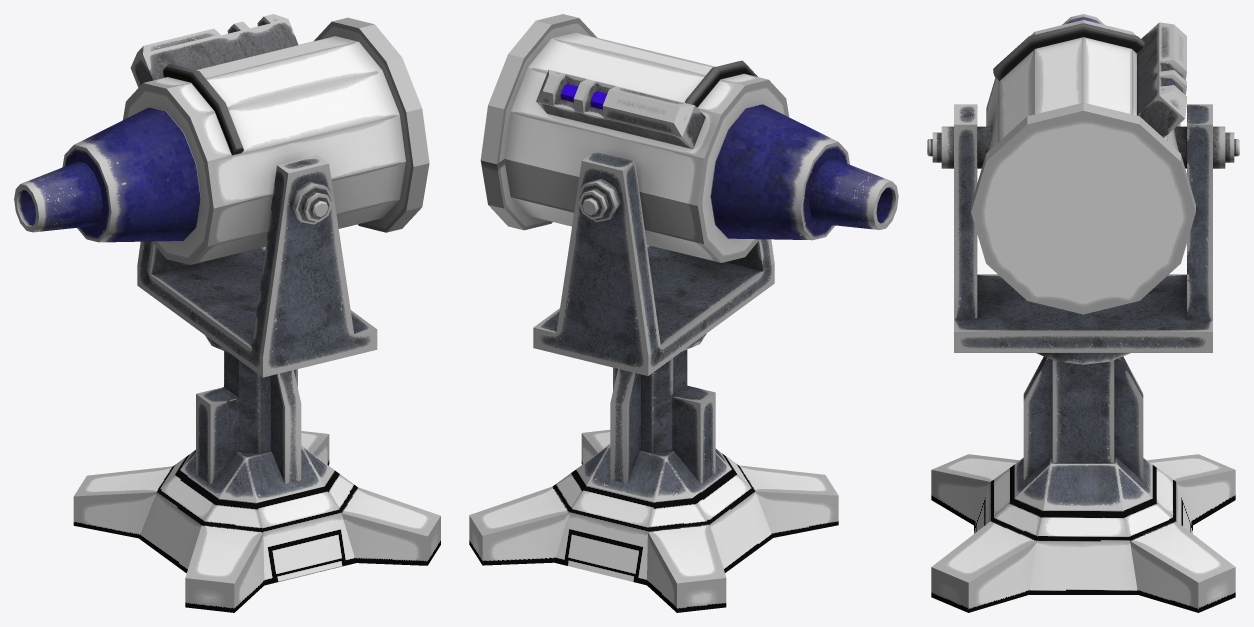
File: Turrent.fbx
3 views of the same model, side by side, from view 1: azimuth 30°, elevation 25°; view 2: azimuth 150°, elevation 25°; view 3: azimuth 270°, elevation 25° (orthographic). The views are drawn at different scales.
Visible parts, largest first — view 1: polySurface12; view 2: polySurface12; view 3: polySurface12.
Part boxes in pixels (x1=…): polySurface12: x1=14, y1=14, x2=440, y2=612; polySurface12: x1=469, y1=14, x2=898, y2=612; polySurface12: x1=927, y1=14, x2=1239, y2=612.
Bounding box in the file's own units: 804 × 1033 × 588.
